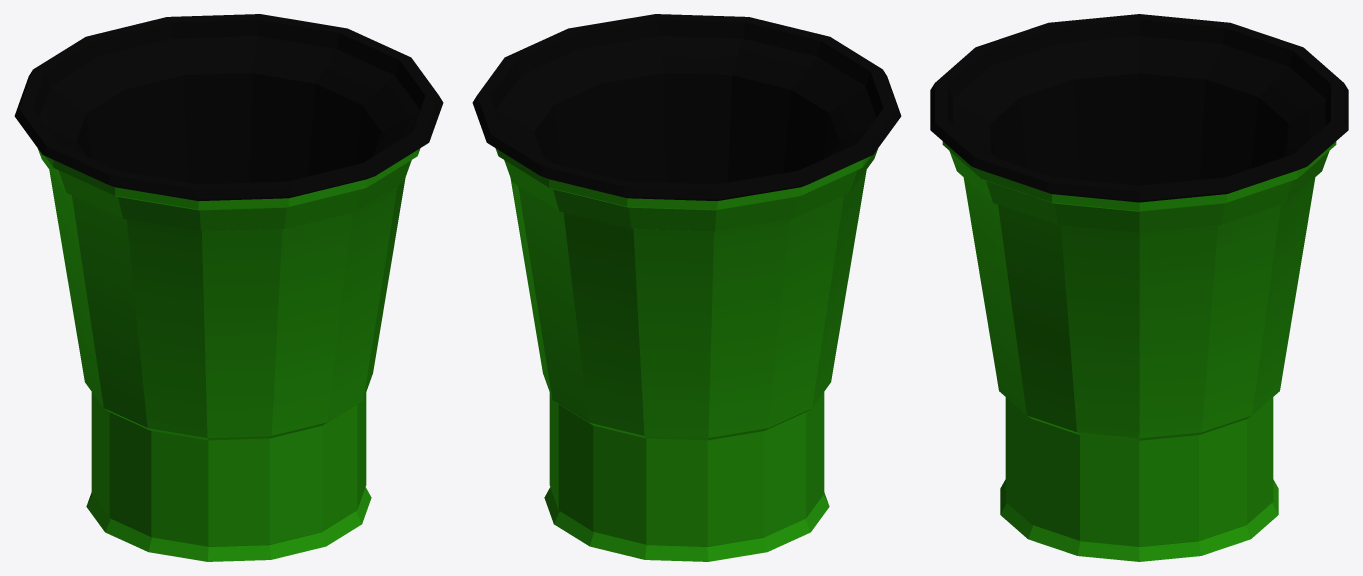
Rendered from SoloCup_AD.fbx.
3 views of the same model, side by side, from view 1: azimuth 30°, elevation 25°; view 2: azimuth 150°, elevation 25°; view 3: azimuth 270°, elevation 25° (orthographic).
Parts seen in each view (by area): view 1: SoloCup_AD; view 2: SoloCup_AD; view 3: SoloCup_AD.
Boxes of the visible parts, <box> form: SoloCup_AD: <box>14,14,443,561</box>; SoloCup_AD: <box>472,14,901,561</box>; SoloCup_AD: <box>930,14,1348,561</box>.
Bounding box in the file's own units: 16.27 × 16.88 × 15.86.
